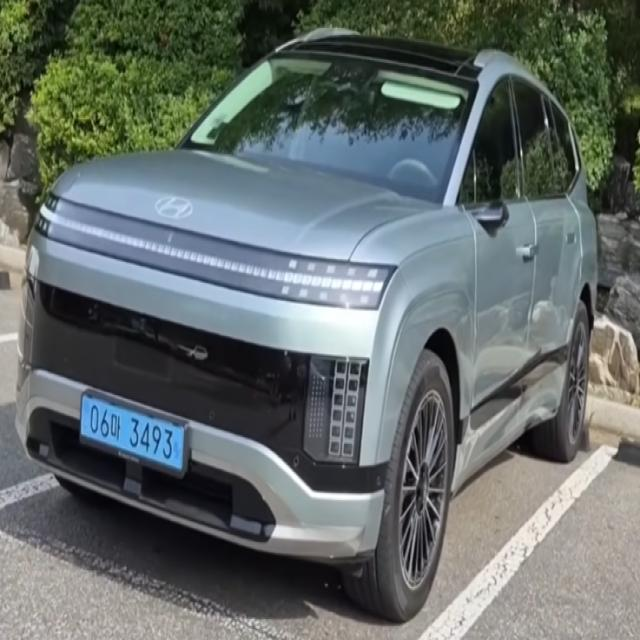car: (71, 372, 207, 481)
carev: (77, 384, 91, 446), (171, 422, 188, 472)
